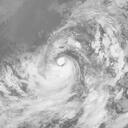cyclone: (32, 34, 90, 96)
